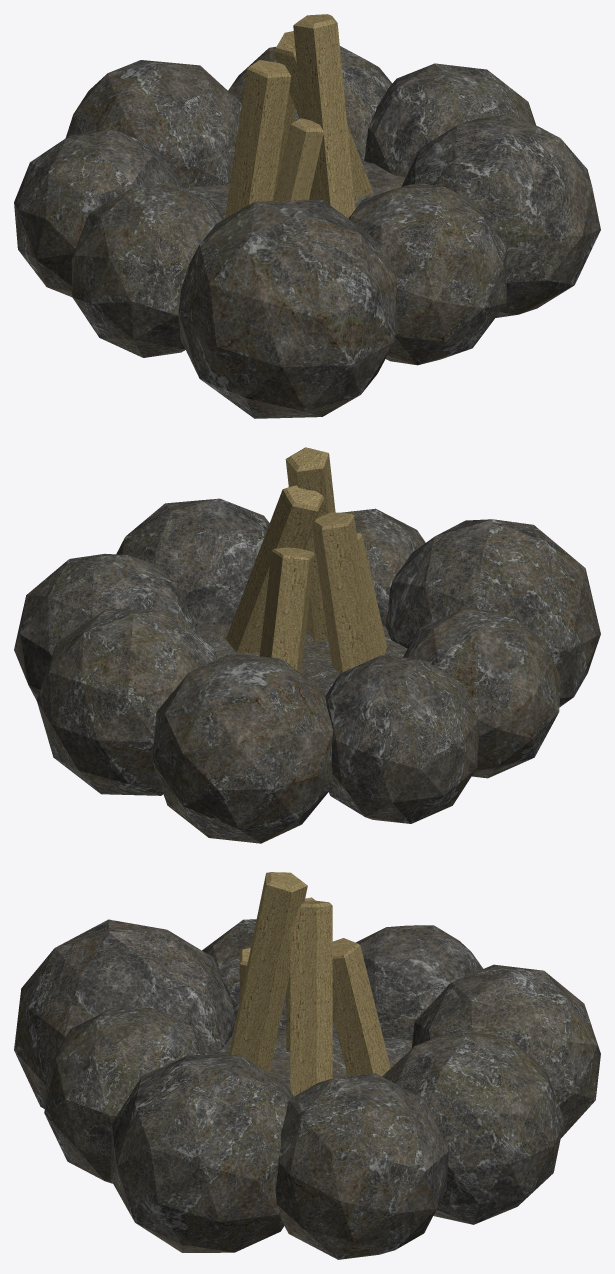
The model's file is Campfire.fbx.
3 renders of one model, top to bottom at view 1: azimuth 30°, elevation 25°; view 2: azimuth 150°, elevation 25°; view 3: azimuth 270°, elevation 25°, orthographic. The views are drawn at different scales.
Visible parts, largest first — view 1: Rocks, Firewood; view 2: Rocks, Firewood; view 3: Rocks, Firewood.
Part boxes in pixels (x1=…): Rocks: x1=14, y1=46, x2=600, y2=418; Firewood: x1=225, y1=14, x2=373, y2=218; Rocks: x1=14, y1=498, x2=600, y2=843; Firewood: x1=226, y1=447, x2=387, y2=673; Rocks: x1=14, y1=919, x2=600, y2=1259; Firewood: x1=229, y1=872, x2=390, y2=1096.
Bounding box in the file's own units: 639 × 386 × 663.
2 materials, 2 textured.
